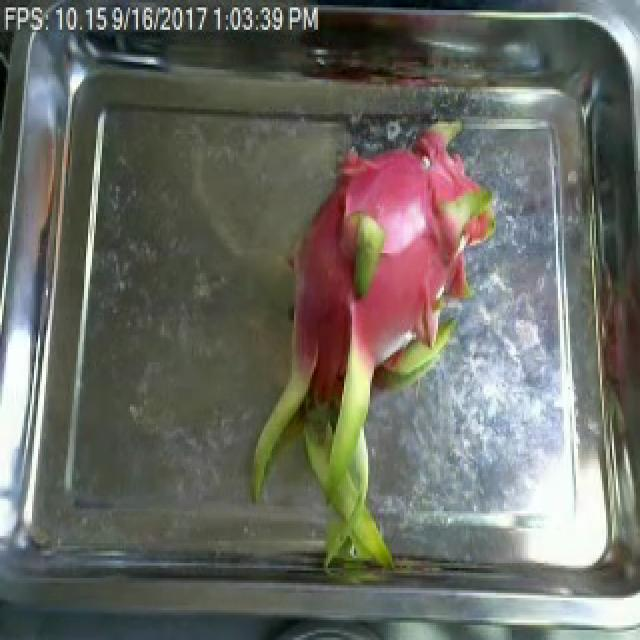fruit: (222, 136, 490, 568)
